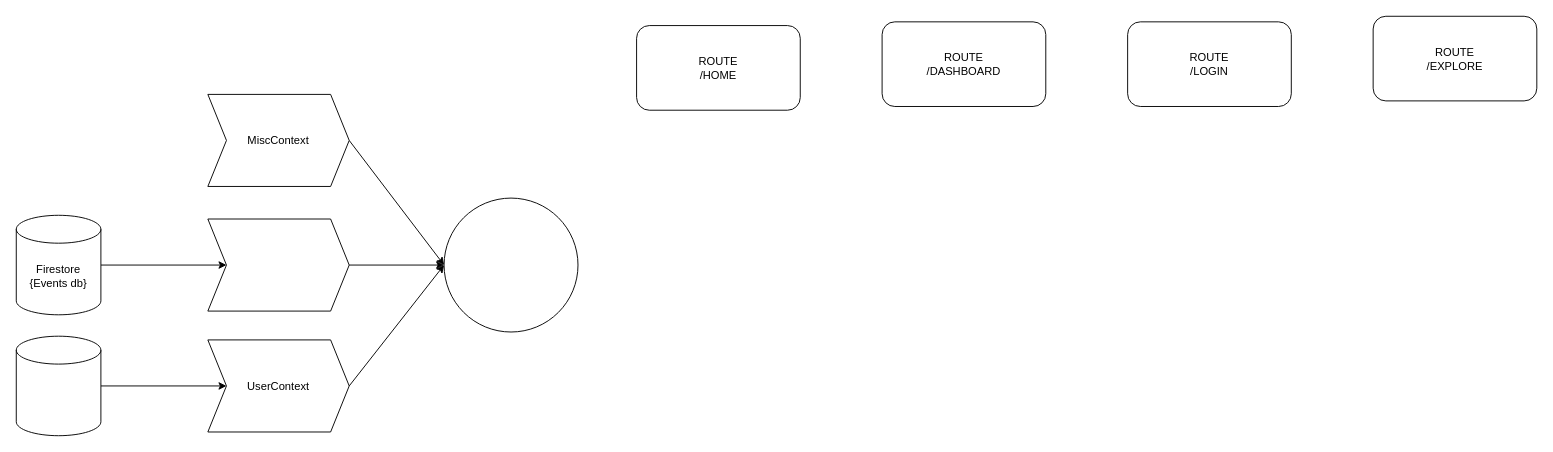
Some shapes in this 1553 by 452 pixel diagram are drawn without their labels. The centre of each missing label's shape, as x and y in pixels:
"AppContext" belongs at pixel 510 264.
"EventContext" belongs at pixel 278 264.
"Firestore {Users db}" belongs at pixel 58 385.
